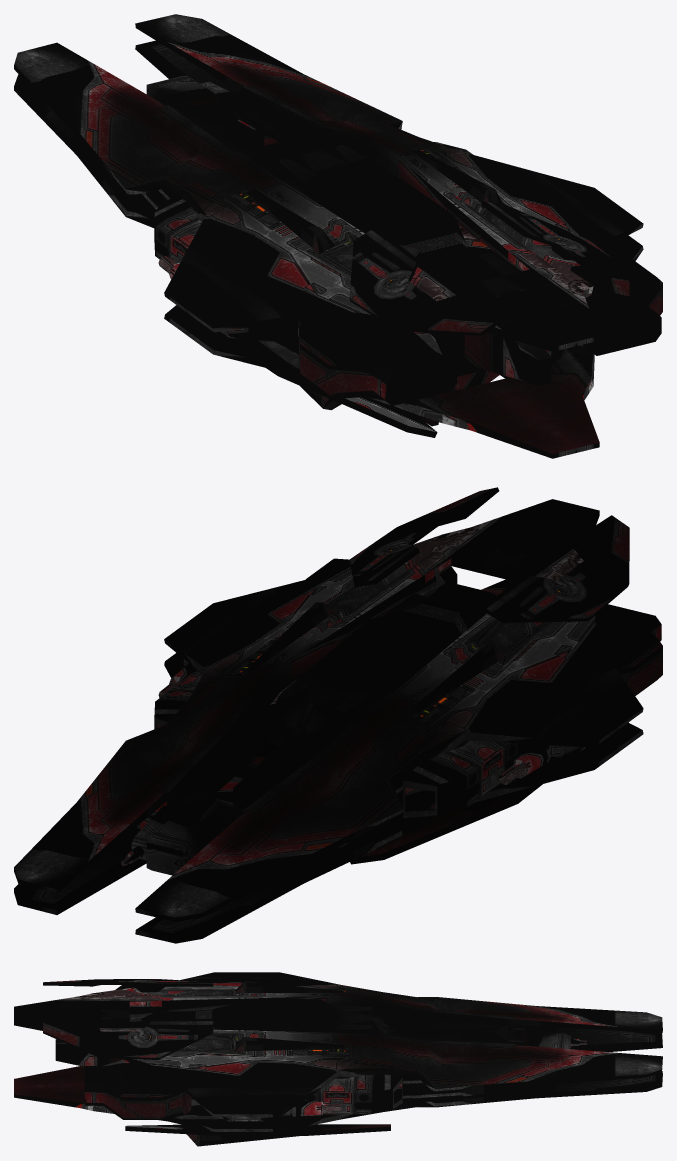
The model's file is Alpha.fbx.
The picture shows the model from 3 angles, top to bottom: view 1: azimuth 30°, elevation 25°; view 2: azimuth 150°, elevation 25°; view 3: azimuth 270°, elevation 25°; orthographic projection. The views are drawn at different scales.
Parts seen in each view (by area): view 1: SciFi_Fighter_A1; view 2: SciFi_Fighter_A1; view 3: SciFi_Fighter_A1.
Boxes of the visible parts, x1,y1,x2,y2 form: SciFi_Fighter_A1: (14, 14, 662, 458); SciFi_Fighter_A1: (14, 487, 662, 943); SciFi_Fighter_A1: (14, 972, 662, 1146).
Bounding box in the file's own units: 491 × 195 × 948.
Materials: 1 (1 with a texture image).
